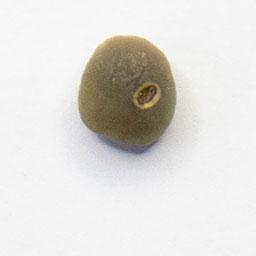peaberry: (74, 31, 181, 152)
